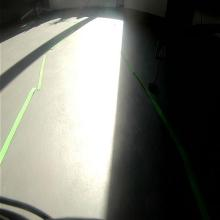crosswalk: (154, 39, 172, 61)
